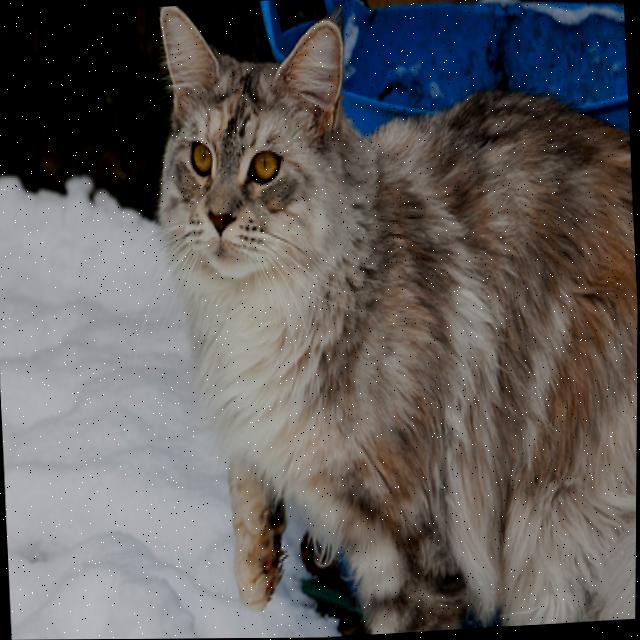Maine Coon: (139, 0, 640, 639)
